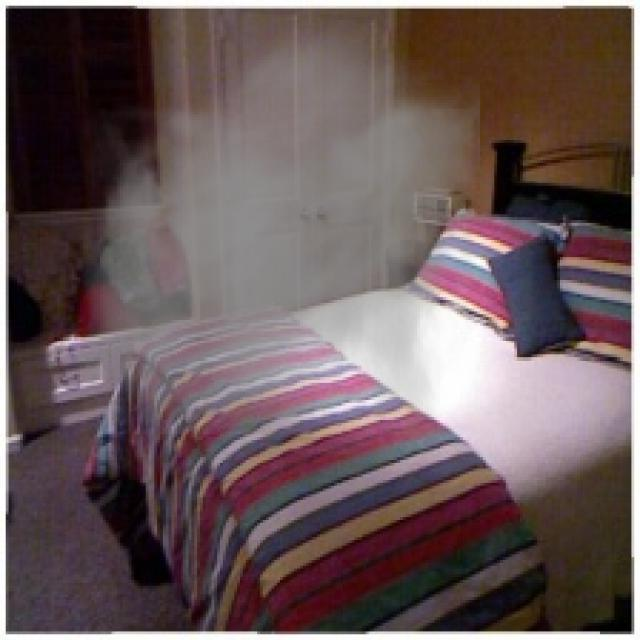Smoke: (77, 14, 480, 434)
